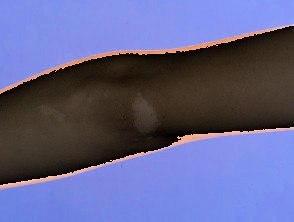vitiligo: (24, 56, 182, 161)
